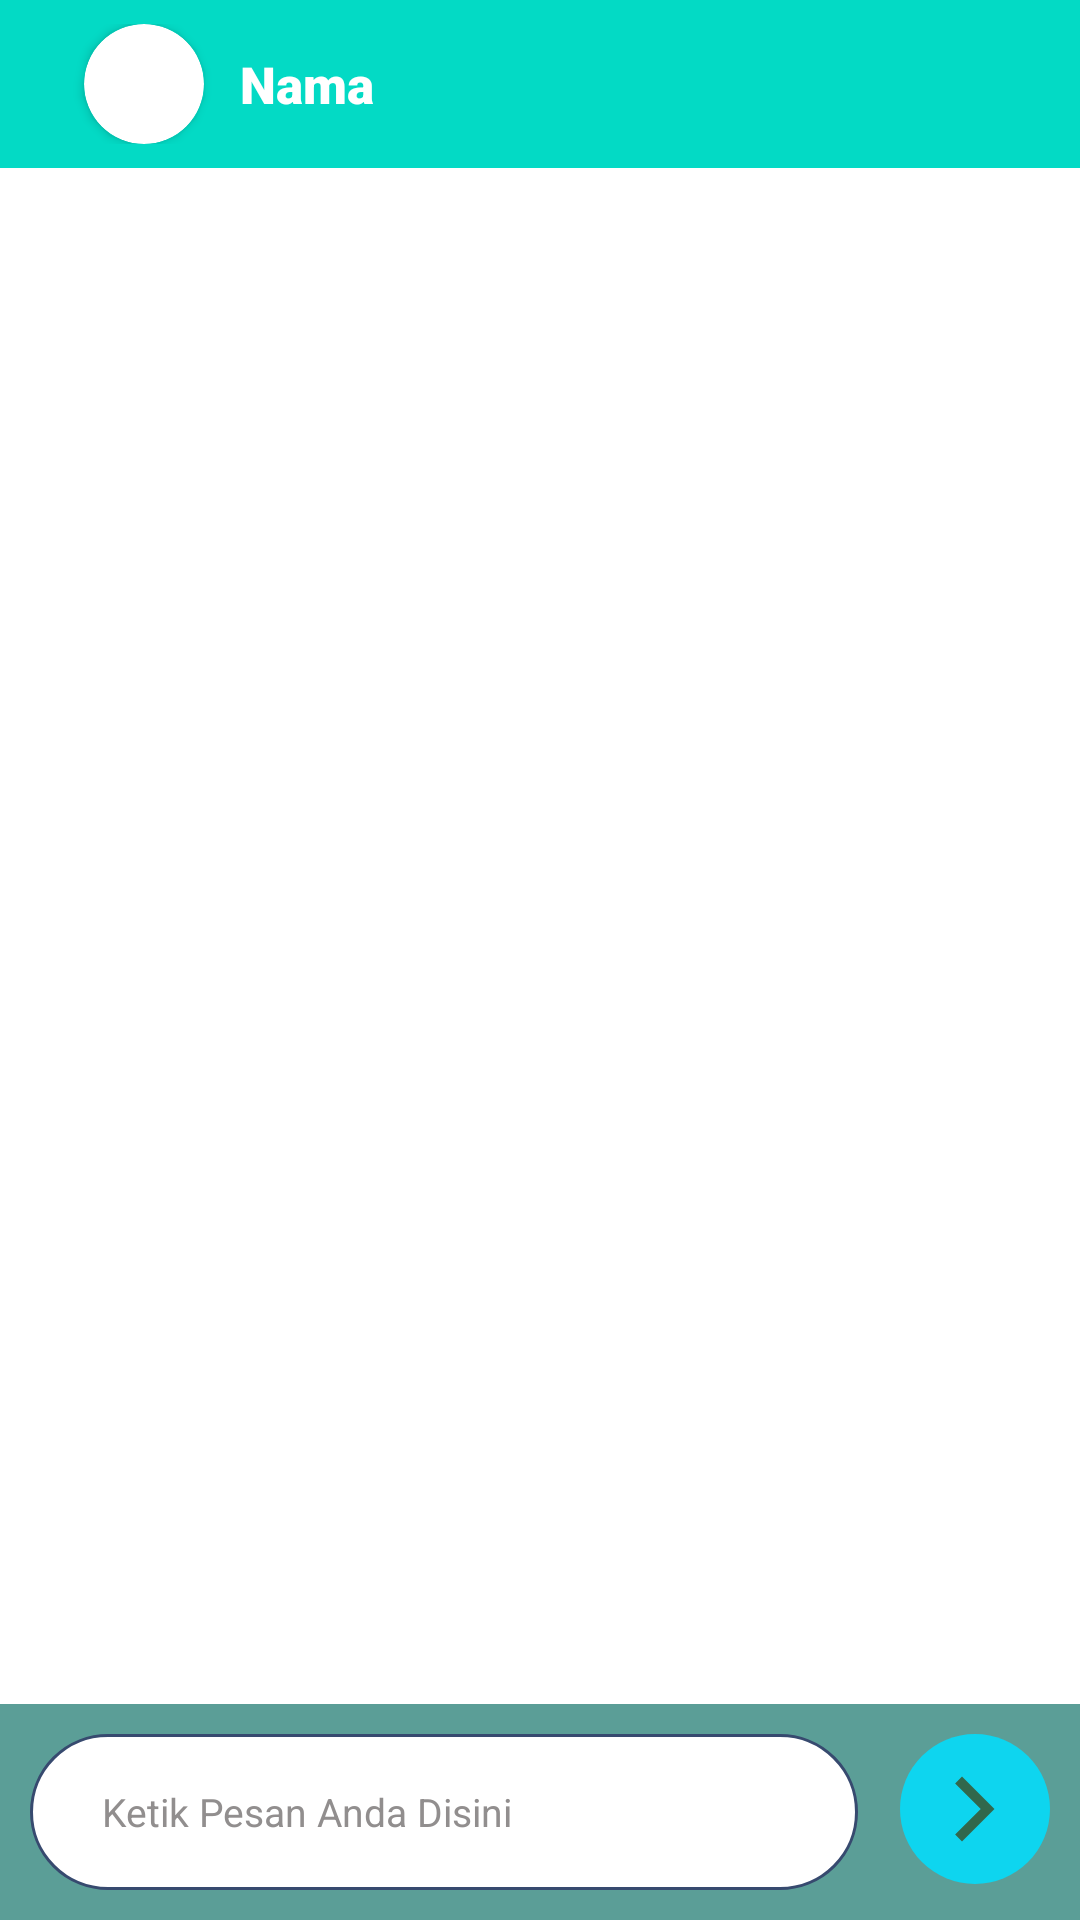

Point at icon controls on the screen. Image size 1080 × 1920, points as point (x, y).
arrow forward: point (975, 1809)
